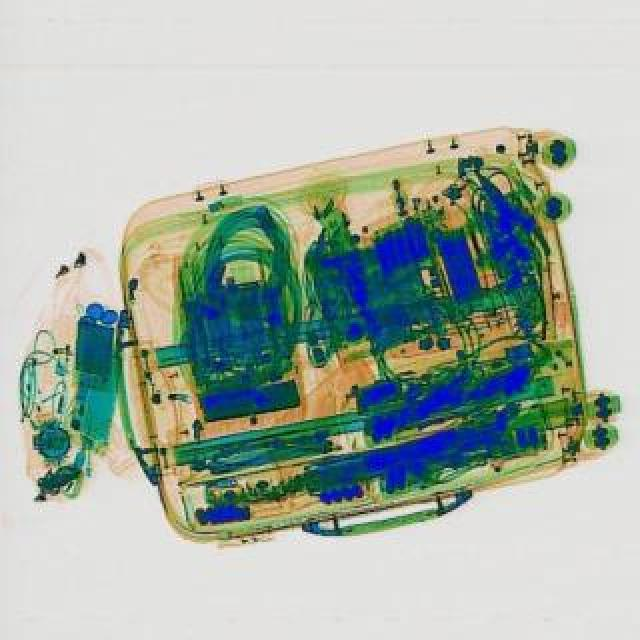wrench: (456, 158, 556, 270)
